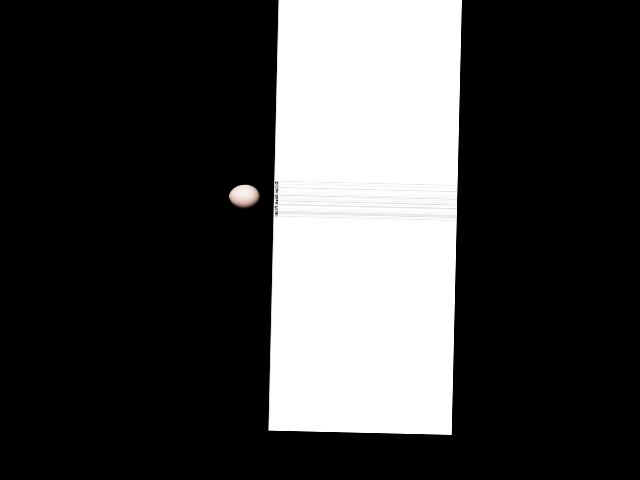egg: (228, 184, 261, 209)
